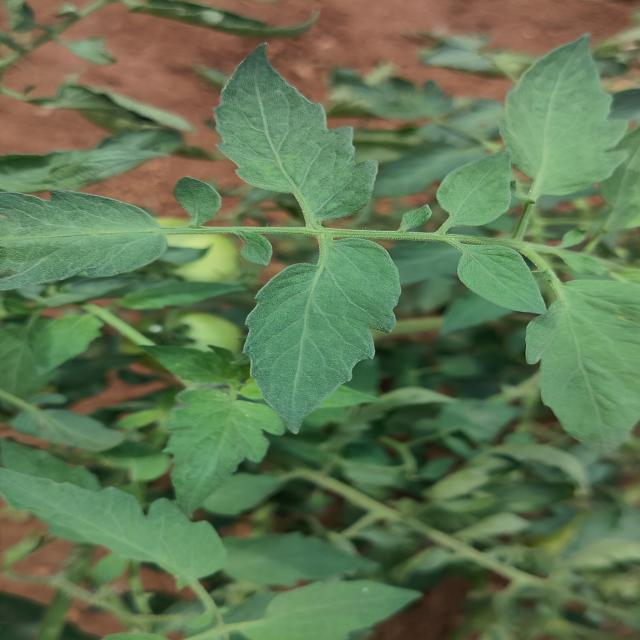tomato_healthy: (244, 237, 401, 433), (214, 44, 376, 228), (0, 470, 225, 585), (501, 33, 628, 201), (527, 300, 640, 451), (0, 190, 165, 290), (375, 144, 512, 232), (450, 240, 546, 314)
